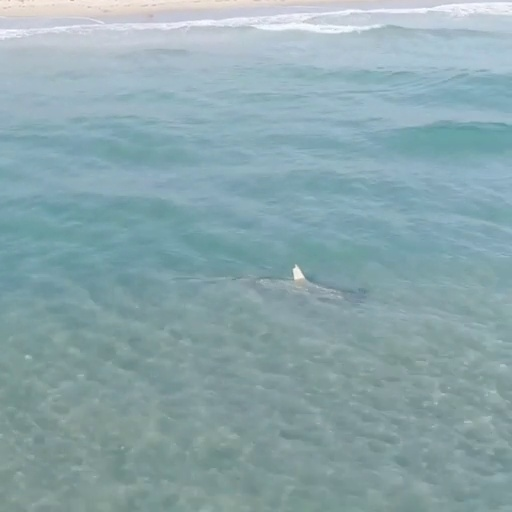shark: (216, 262, 370, 311)
